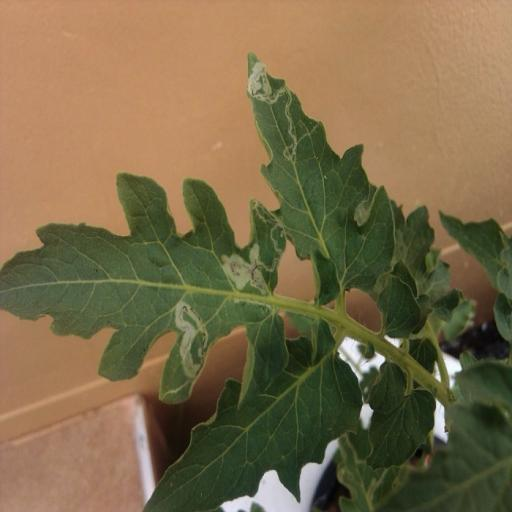Leaf Miner: (0, 166, 287, 404), (240, 51, 394, 293)
